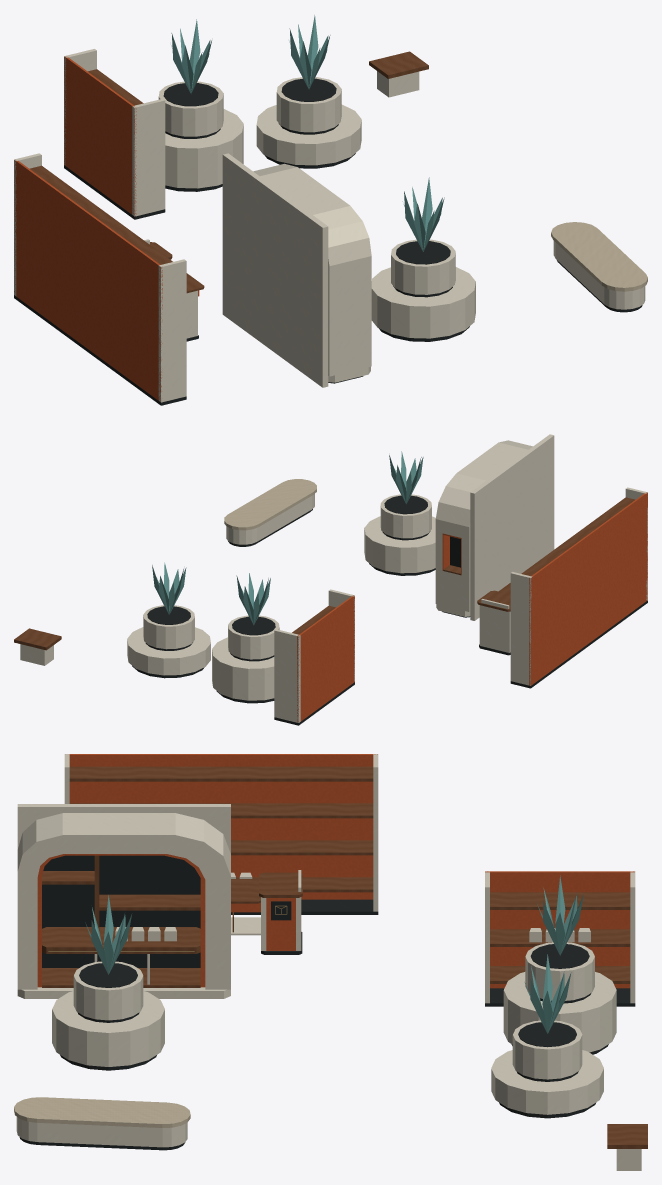
File: SHOP_D09_P100_F210__fitout.glb
3 renders of one model, top to bottom at view 1: azimuth 30°, elevation 25°; view 2: azimuth 150°, elevation 25°; view 3: azimuth 270°, elevation 25°, orthographic. The views are drawn at different scales.
Visible parts, largest first — view 1: SHOP_D09_P100_F210__fitout__ivory_enamel, SHOP_D09_P100_F210__fitout__retail_terracotta_enamel, SHOP_D09_P100_F210__fitout__dark_rubber, SHOP_D09_P100_F210__fitout__quiet_teal, SHOP_D09_P100_F210__fitout__oatmeal_weave, SHOP_D09_P100_F210__fitout__warm_walnut; view 2: SHOP_D09_P100_F210__fitout__ivory_enamel, SHOP_D09_P100_F210__fitout__retail_terracotta_enamel, SHOP_D09_P100_F210__fitout__dark_rubber, SHOP_D09_P100_F210__fitout__warm_walnut, SHOP_D09_P100_F210__fitout__quiet_teal, SHOP_D09_P100_F210__fitout__oatmeal_weave; view 3: SHOP_D09_P100_F210__fitout__ivory_enamel, SHOP_D09_P100_F210__fitout__retail_terracotta_enamel, SHOP_D09_P100_F210__fitout__warm_walnut, SHOP_D09_P100_F210__fitout__dark_rubber, SHOP_D09_P100_F210__fitout__oatmeal_weave, SHOP_D09_P100_F210__fitout__quiet_teal.
Boxes of the visible parts, x1,y1,x2,y2 form: SHOP_D09_P100_F210__fitout__ivory_enamel: (14,49,645,402); SHOP_D09_P100_F210__fitout__retail_terracotta_enamel: (14,56,199,401); SHOP_D09_P100_F210__fitout__dark_rubber: (14,78,642,405); SHOP_D09_P100_F210__fitout__quiet_teal: (171,15,444,251); SHOP_D09_P100_F210__fitout__oatmeal_weave: (551,222,647,291); SHOP_D09_P100_F210__fitout__warm_walnut: (29,51,428,293); SHOP_D09_P100_F210__fitout__ivory_enamel: (20,434,647,722); SHOP_D09_P100_F210__fitout__retail_terracotta_enamel: (297,492,647,722); SHOP_D09_P100_F210__fitout__dark_rubber: (132,495,647,725); SHOP_D09_P100_F210__fitout__warm_walnut: (14,497,635,650); SHOP_D09_P100_F210__fitout__quiet_teal: (152,451,423,625); SHOP_D09_P100_F210__fitout__oatmeal_weave: (224,479,316,530); SHOP_D09_P100_F210__fitout__ivory_enamel: (16,754,641,1170); SHOP_D09_P100_F210__fitout__retail_terracotta_enamel: (37,754,634,988); SHOP_D09_P100_F210__fitout__warm_walnut: (42,766,647,1148); SHOP_D09_P100_F210__fitout__dark_rubber: (19,855,635,1150); SHOP_D09_P100_F210__fitout__oatmeal_weave: (14,1097,190,1127); SHOP_D09_P100_F210__fitout__quiet_teal: (85,875,583,1033).
Size of the model in its own units: 10.25 by 3 by 10.11.
7 materials, 6 textured.
